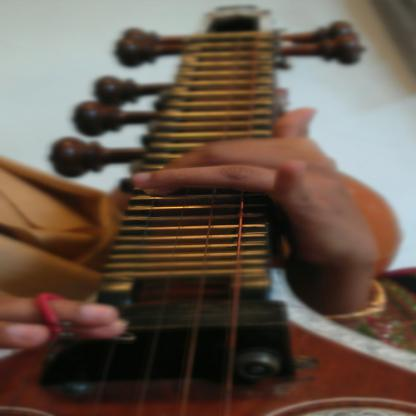Veena: (63, 1, 348, 371)
